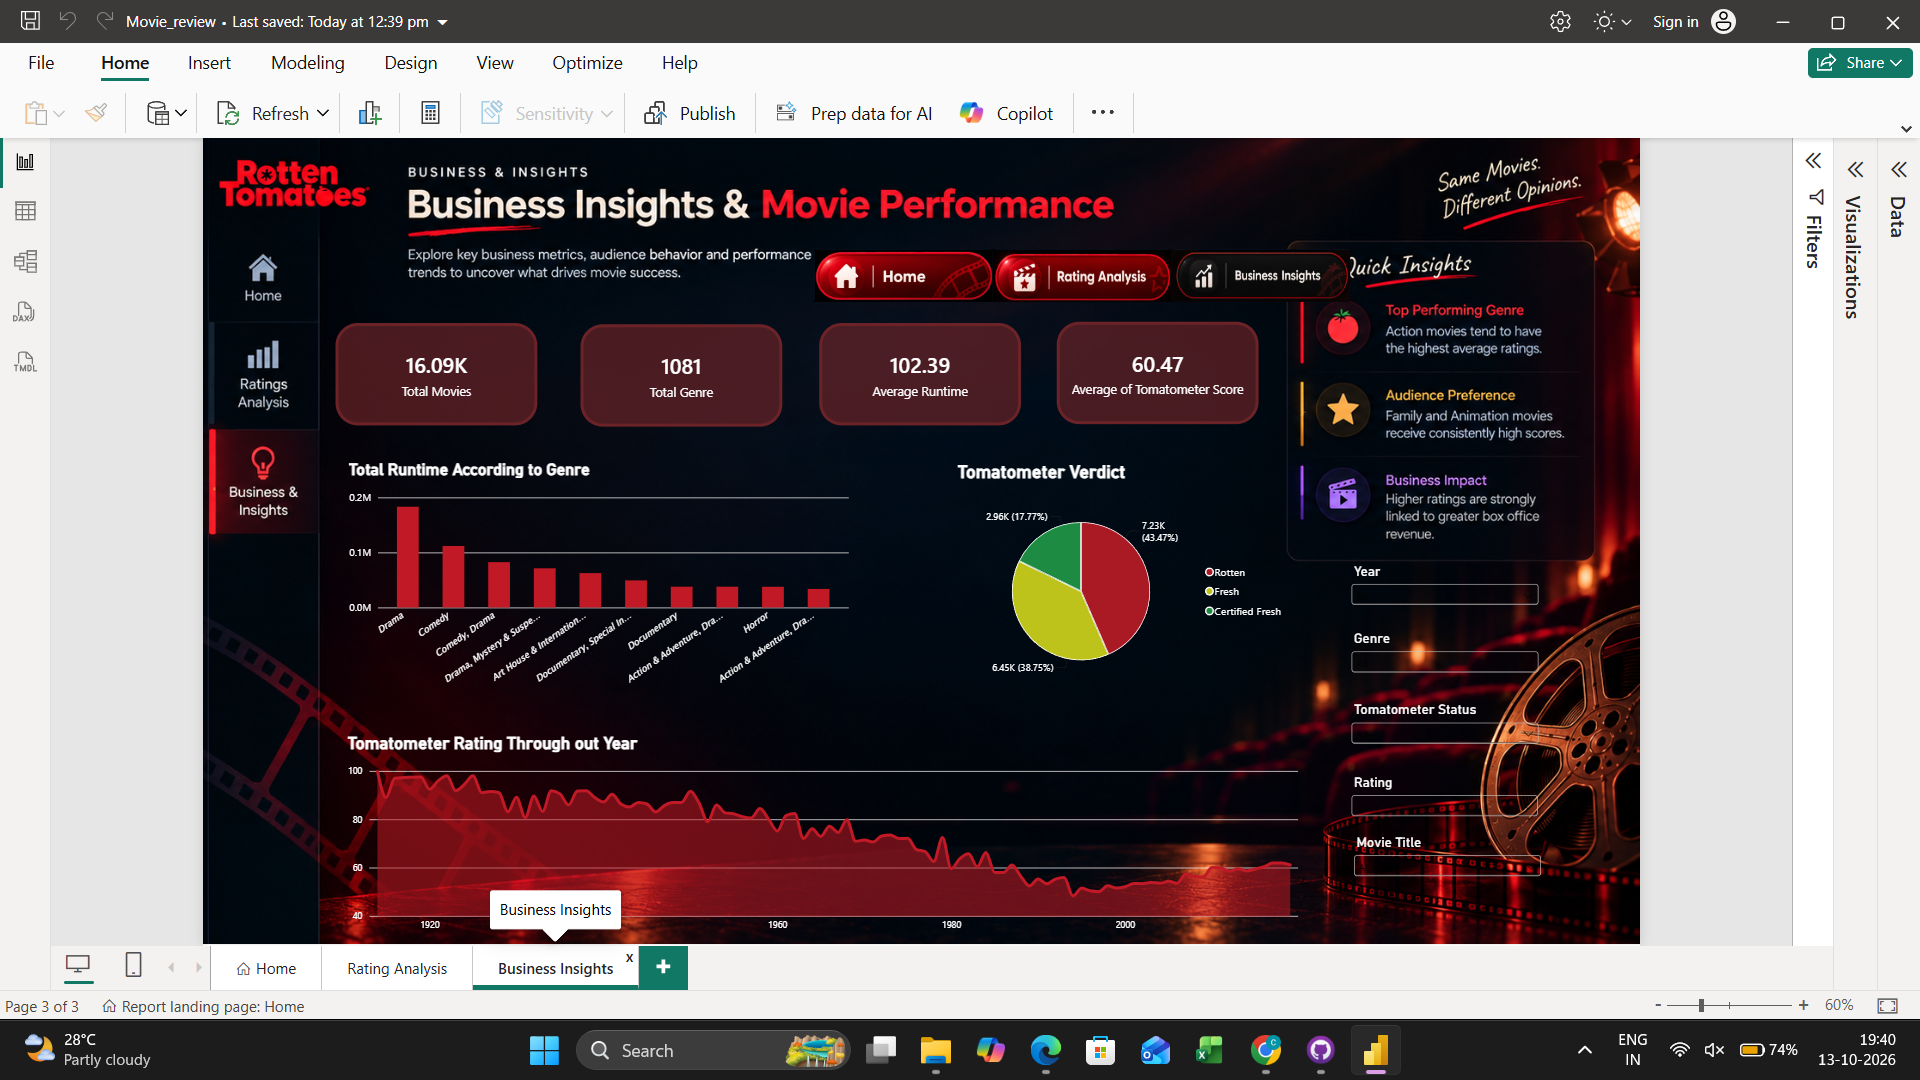

The dashboard page shown, as its layout file describes it:
{"tool":"powerbi","page":{"name":"Business Insights","canvas":[1920,1080],"ordinal":2},"visuals":[{"type":"slicer","fields":{"Values":["Rotten Tomatoes Movies.in_theaters_date.Variation.Date Hierarchy.Year"]},"box":[1529.2,568.2,259.3,72],"z":0},{"type":"slicer","fields":{"Values":["Rotten Tomatoes Movies.genre"]},"box":[1529.2,658.7,259.3,72],"z":1000},{"type":"slicer","fields":{"Values":["Rotten Tomatoes Movies.tomatometer_status"]},"box":[1529.2,752.8,259.3,72],"z":2000},{"type":"slicer","fields":{"Values":["Rotten Tomatoes Movies.rating"]},"box":[1529.2,850.5,258.8,81.4],"z":3000},{"type":"actionButton","box":[817.2,148.2,238,70],"z":4000},{"type":"actionButton","box":[1055.9,148.2,238,70],"z":5000},{"type":"actionButton","box":[1294.7,148.2,238,70],"z":6000},{"type":"columnChart","title":"Total Runtime According to Genre","fields":{"Category":["Rotten Tomatoes Movies.genre"],"Y":["Sum(Rotten Tomatoes Movies.runtime_in_minutes)"]},"box":[178,416,700,338],"z":7000},{"type":"card","fields":{"Values":["Count(Rotten Tomatoes Movies.movie_title)"]},"box":[177.6,246.9,269.6,137],"z":8000},{"type":"card","fields":{"Values":["Count(Rotten Tomatoes Movies.genre)"]},"box":[504.1,249,269.6,137],"z":9000},{"type":"card","fields":{"Values":["Avg(Rotten Tomatoes Movies.runtime_in_minutes)"]},"box":[822.4,246.9,269.6,137],"z":10000},{"type":"card","fields":{"Values":["Avg(Rotten Tomatoes Movies.tomatometer_rating)"]},"box":[1140.8,244.9,269.6,137],"z":11000},{"type":"donutChart","title":"Tomatometer Verdict","fields":{"Category":["Rotten Tomatoes Movies.tomatometer_status"],"Y":["CountNonNull(Rotten Tomatoes Movies.movie_title)"]},"box":[992.1,417.8,474,334],"z":12000},{"type":"lineChart","title":"Tomatometer Rating Through out Year","fields":{"Category":["Rotten Tomatoes Movies.in_theaters_date.Variation.Date Hierarchy.Year"],"Y":["Avg(Rotten Tomatoes Movies.tomatometer_rating)"]},"box":[177,780.1,1304.3,300],"z":13000},{"type":"slicer","fields":{"Values":["Rotten Tomatoes Movies.movie_title"]},"box":[1533.5,930.4,259.3,76.2],"z":14000}]}

Visuals, with their boxes on the page's 1920x1080 design canvas (x1, y1, x2, y2). These are canvas units, not pixel positions in the 1920x1080 screenshot, which may show the page scaled, cropped or inside an application window:
slicer - Rotten Tomatoes Movies.in_theaters_date.Variation.Date Hierarchy.Year: (1529, 568, 1788, 640)
slicer - Rotten Tomatoes Movies.genre: (1529, 659, 1788, 731)
slicer - Rotten Tomatoes Movies.tomatometer_status: (1529, 753, 1788, 825)
slicer - Rotten Tomatoes Movies.rating: (1529, 850, 1788, 932)
actionButton: (817, 148, 1055, 218)
actionButton: (1056, 148, 1294, 218)
actionButton: (1295, 148, 1533, 218)
"Total Runtime According to Genre" columnChart: (178, 416, 878, 754)
card - Count(Rotten Tomatoes Movies.movie_title): (178, 247, 447, 384)
card - Count(Rotten Tomatoes Movies.genre): (504, 249, 774, 386)
card - Avg(Rotten Tomatoes Movies.runtime_in_minutes): (822, 247, 1092, 384)
card - Avg(Rotten Tomatoes Movies.tomatometer_rating): (1141, 245, 1410, 382)
"Tomatometer Verdict" donutChart: (992, 418, 1466, 752)
"Tomatometer Rating Through out Year" lineChart: (177, 780, 1481, 1080)
slicer - Rotten Tomatoes Movies.movie_title: (1534, 930, 1793, 1007)
